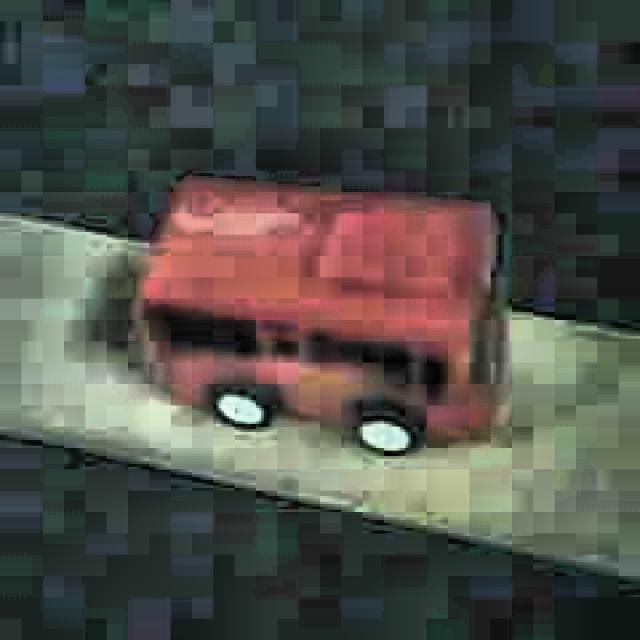bus: (132, 173, 512, 460)
